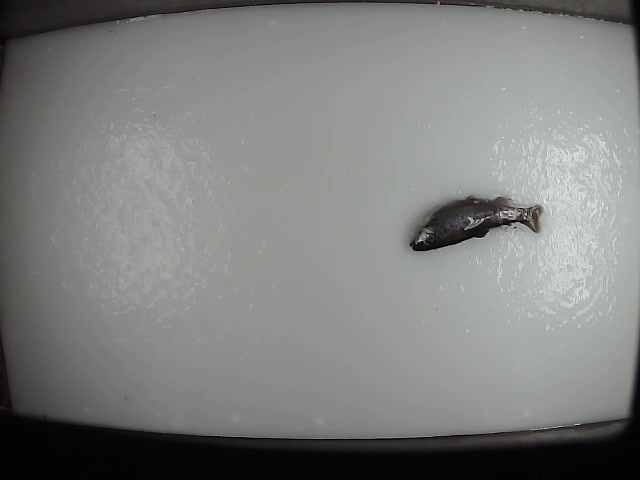fish: (406, 191, 544, 253)
